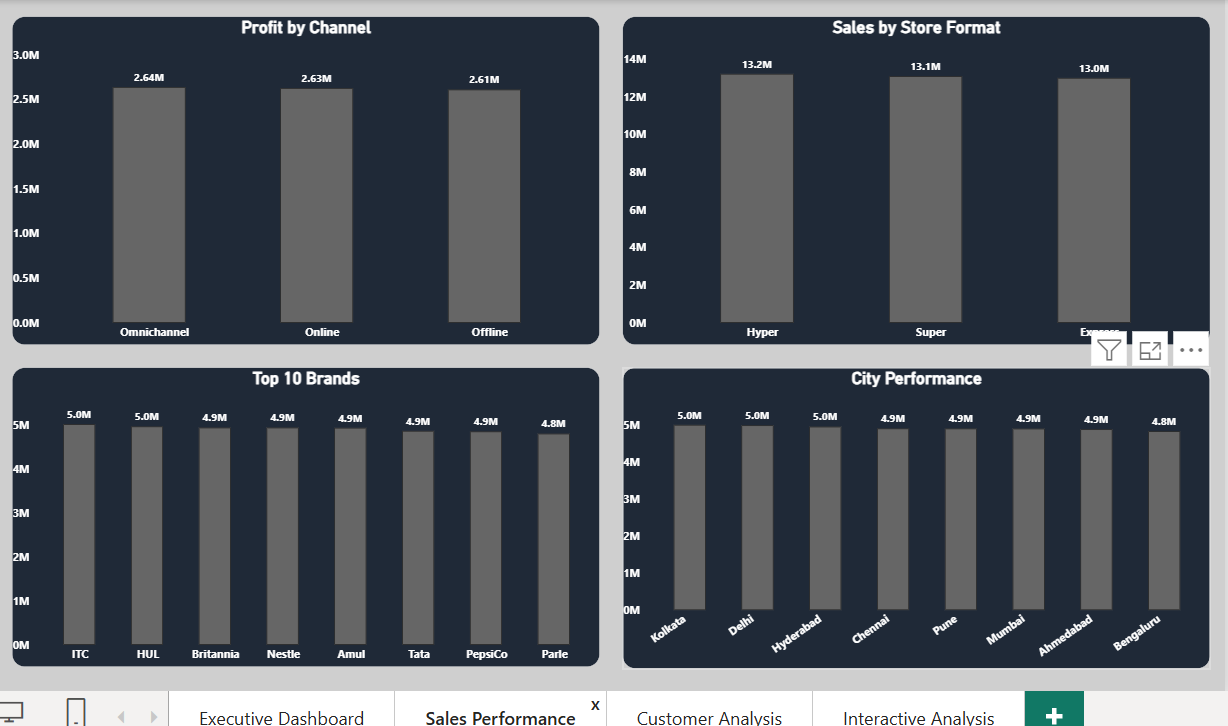

The page's visual inventory and layout, read from the dashboard file:
{"tool":"powerbi","page":{"name":"Sales Performance","canvas":[1920,1080],"ordinal":1},"visuals":[{"type":"clusteredColumnChart","title":"Profit by Channel","fields":{"Category":["Fact sales.Channel"],"Y":["Fact sales.Total Profit"]},"box":[22.7,25.5,918.4,513.1],"z":0},{"type":"clusteredColumnChart","title":"Sales by Store Format","fields":{"Y":["Fact sales.Total Revenue"],"Category":["Fact sales.Store_Format"]},"box":[978,25.5,918.4,513.1],"z":1000},{"type":"clusteredColumnChart","title":"Top 10 Brands","fields":{"Y":["Fact sales.Total Revenue"],"Category":["Fact sales.Brand"]},"box":[22.7,575.4,918.4,467.7],"z":2000},{"type":"clusteredColumnChart","title":"City Performance","fields":{"Category":["Fact sales.City"],"Y":["Fact sales.Total Revenue"]},"box":[978,575.4,918.4,470.6],"z":3000}]}

Visuals, with their boxes on the page's 1920x1080 design canvas (x1, y1, x2, y2). These are canvas units, not pixel positions in the 1228x726 screenshot, which may show the page scaled, cropped or inside an application window:
"Profit by Channel" clusteredColumnChart: [23,26,941,539]
"Sales by Store Format" clusteredColumnChart: [978,26,1896,539]
"Top 10 Brands" clusteredColumnChart: [23,575,941,1043]
"City Performance" clusteredColumnChart: [978,575,1896,1046]
